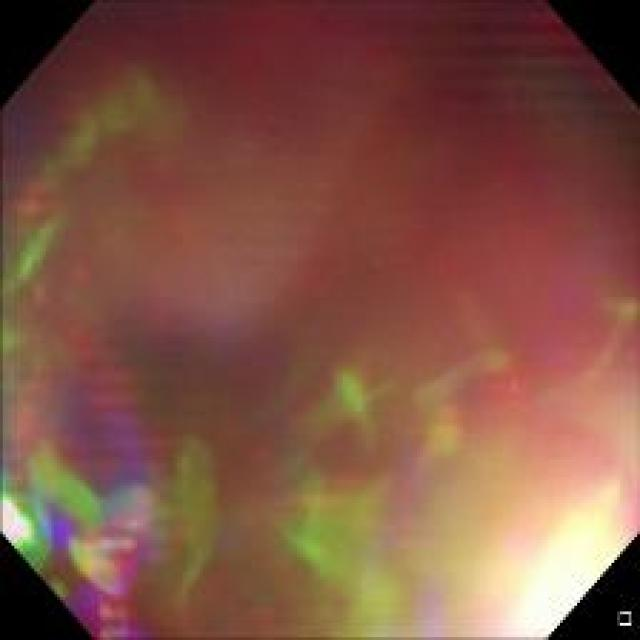color misalignment: (10, 11, 622, 626)
